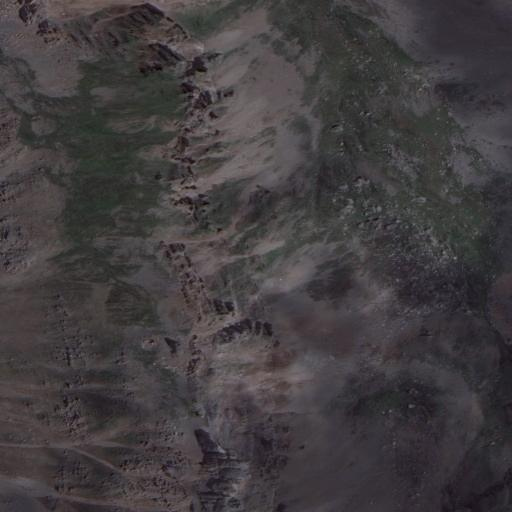landslide: (174, 7, 312, 194), (187, 305, 315, 416)
